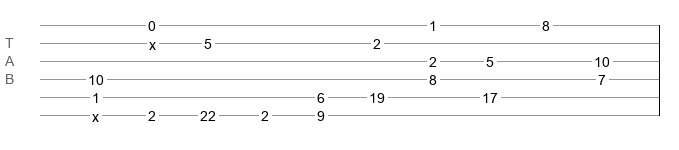0: (148, 18, 156, 28)
1: (92, 90, 100, 100), (429, 18, 437, 28)
10: (88, 72, 104, 82), (594, 54, 610, 64)
17: (482, 90, 498, 100)
19: (369, 90, 385, 100)
2: (148, 108, 156, 118), (261, 108, 269, 118), (373, 36, 381, 46), (429, 54, 437, 64)
22: (200, 108, 216, 118)
5: (204, 36, 212, 46), (486, 54, 494, 64)
6: (317, 90, 325, 100)
7: (598, 72, 606, 82)
8: (429, 72, 437, 82), (542, 18, 550, 28)
9: (317, 108, 325, 118)
x: (92, 109, 99, 117), (149, 37, 156, 45)
